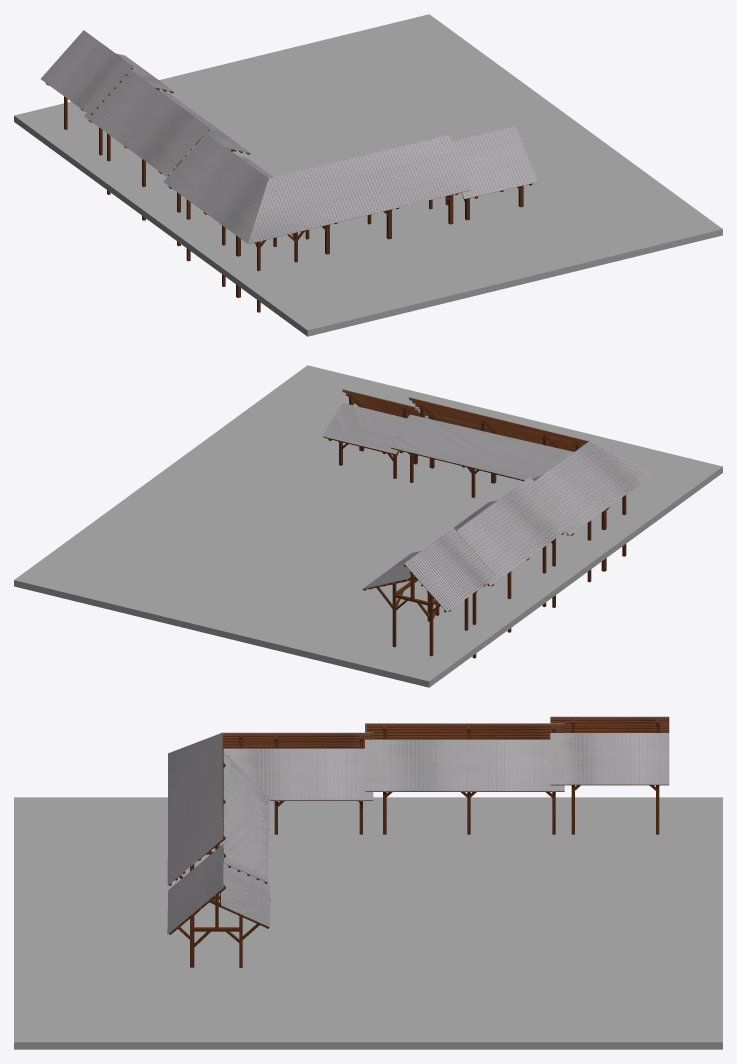
Rendered from Gazebo.fbx.
The picture shows the model from 3 angles, top to bottom: view 1: azimuth 30°, elevation 25°; view 2: azimuth 150°, elevation 25°; view 3: azimuth 270°, elevation 25°; orthographic projection. The views are drawn at different scales.
Visible parts, largest first — view 1: floor, polySurface45, pasted__pCube7 (×3), polySurface48; view 2: floor, pasted__pCube7 (×3), polySurface46, polySurface45, polySurface47, polySurface30; view 3: floor, pasted__pCube7 (×2), polySurface46, polySurface45, polySurface48, polySurface47, pCube43 (×2), pCube42 (×2), pCube40, pCube39, pCube41.
Part boxes in pixels (<box>): floor: <box>14,14,722,336</box>; polySurface45: <box>163,133,472,244</box>; pasted__pCube7 (×3): <box>41,30,251,176</box>; polySurface48: <box>452,126,538,199</box>; floor: <box>14,365,722,687</box>; pasted__pCube7 (×3): <box>362,477,572,612</box>; polySurface46: <box>389,414,573,480</box>; polySurface45: <box>408,397,654,535</box>; polySurface47: <box>322,403,406,454</box>; polySurface30: <box>409,398,588,442</box>; floor: <box>14,797,722,1049</box>; pasted__pCube7 (×2): <box>365,733,669,791</box>; polySurface46: <box>219,748,373,882</box>; polySurface45: <box>167,732,373,885</box>; polySurface48: <box>167,844,223,934</box>; polySurface47: <box>220,864,270,927</box>; pCube43 (×2): <box>224,724,564,736</box>; pCube42 (×2): <box>223,727,564,739</box>; pCube40: <box>373,732,564,735</box>; pCube39: <box>373,735,550,738</box>; pCube41: <box>366,730,564,732</box>.
Size of the model in its own units: 69.15 by 22 by 84.67.
3 materials, 2 textured.
